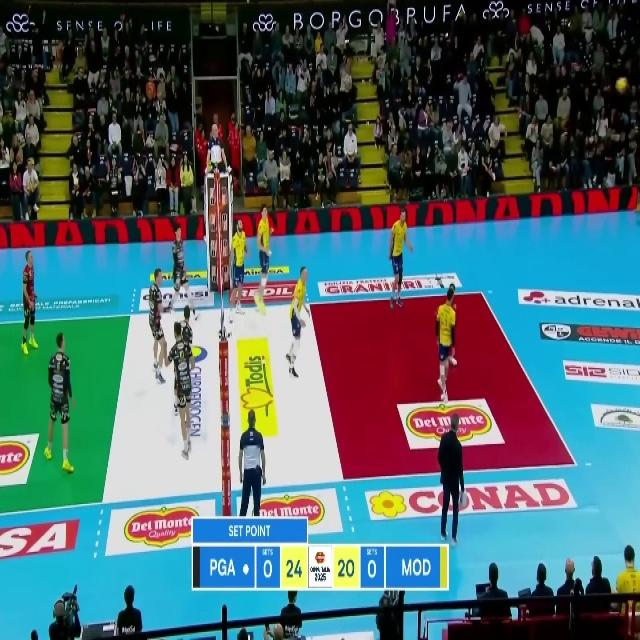volleyball court: (1, 292, 577, 516)
